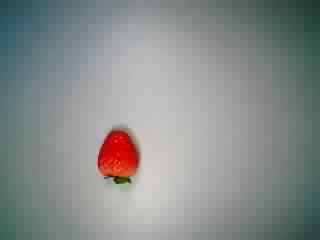strawberry: (88, 125, 154, 187)
